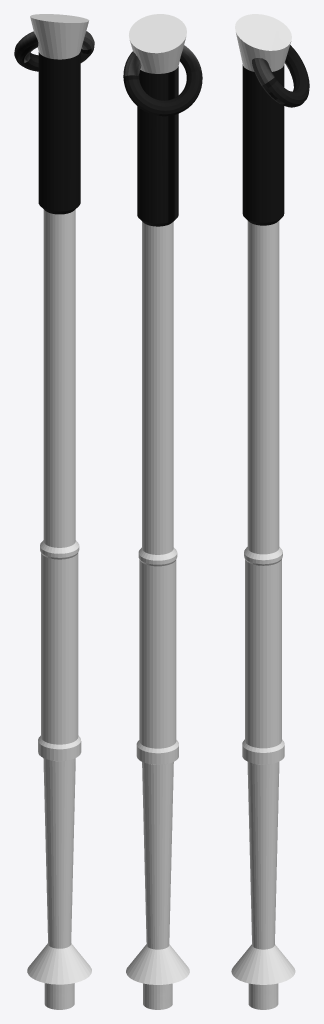
The model's file is pole.glb.
3 renders of one model, left to right at view 1: azimuth 30°, elevation 25°; view 2: azimuth 210°, elevation 25°; view 3: azimuth 270°, elevation 25°, orthographic.
Visible parts, largest first — view 1: Torus; view 2: Torus; view 3: Torus.
Boxes of the visible parts, x1,y1,x2,y2 form: Torus: (14,14,94,1009); Torus: (123,14,202,1009); Torus: (231,14,309,1009).
Bounding box in the file's own units: 0.4548 × 6.36 × 0.4598.
1 material, 1 textured.
